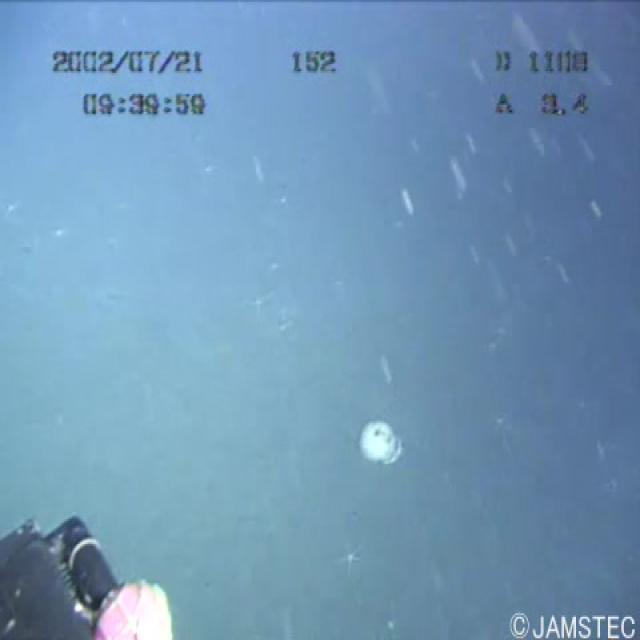plastic: (331, 391, 421, 468)
